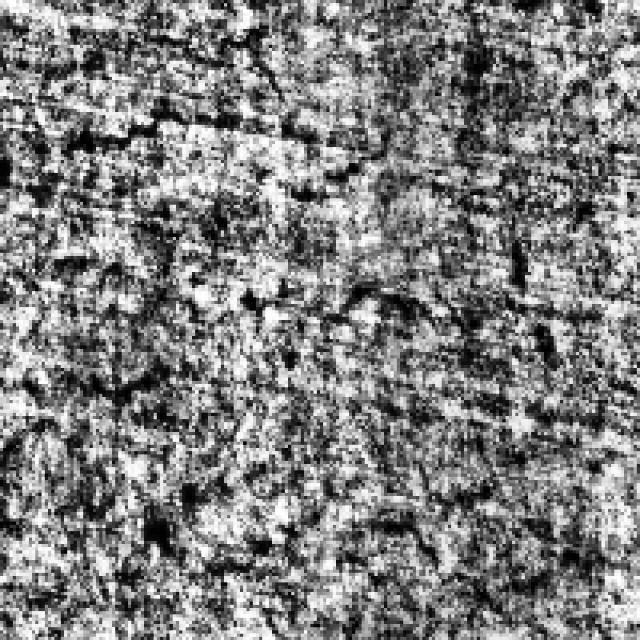Pitted_Surface: (64, 96, 531, 333), (141, 461, 554, 602)
